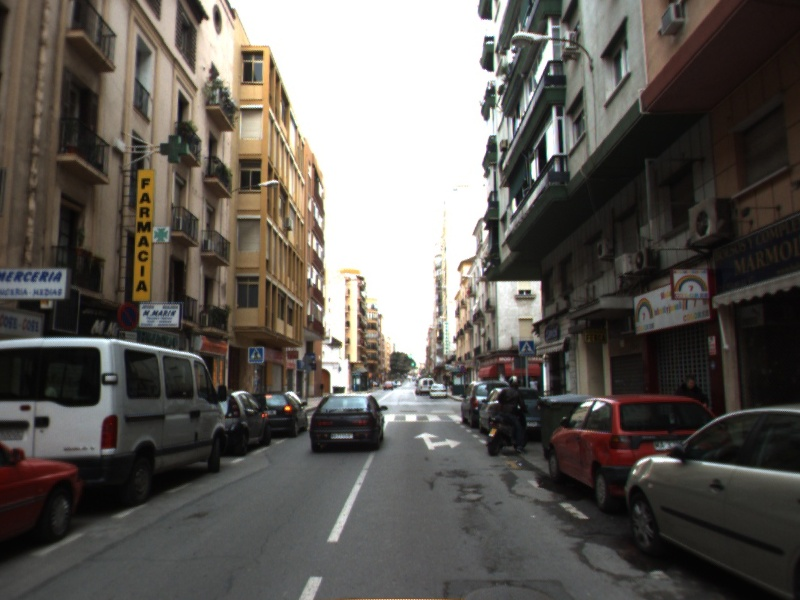STRAIGHT_RIGHT: (412, 431, 463, 451)
